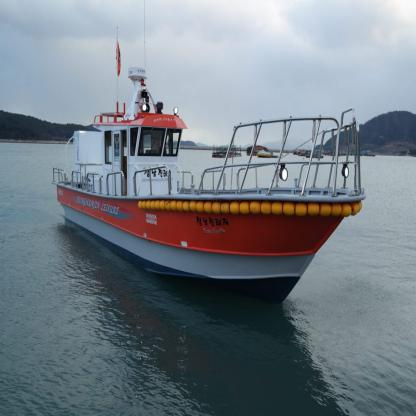fish-b: (47, 2, 367, 314)
